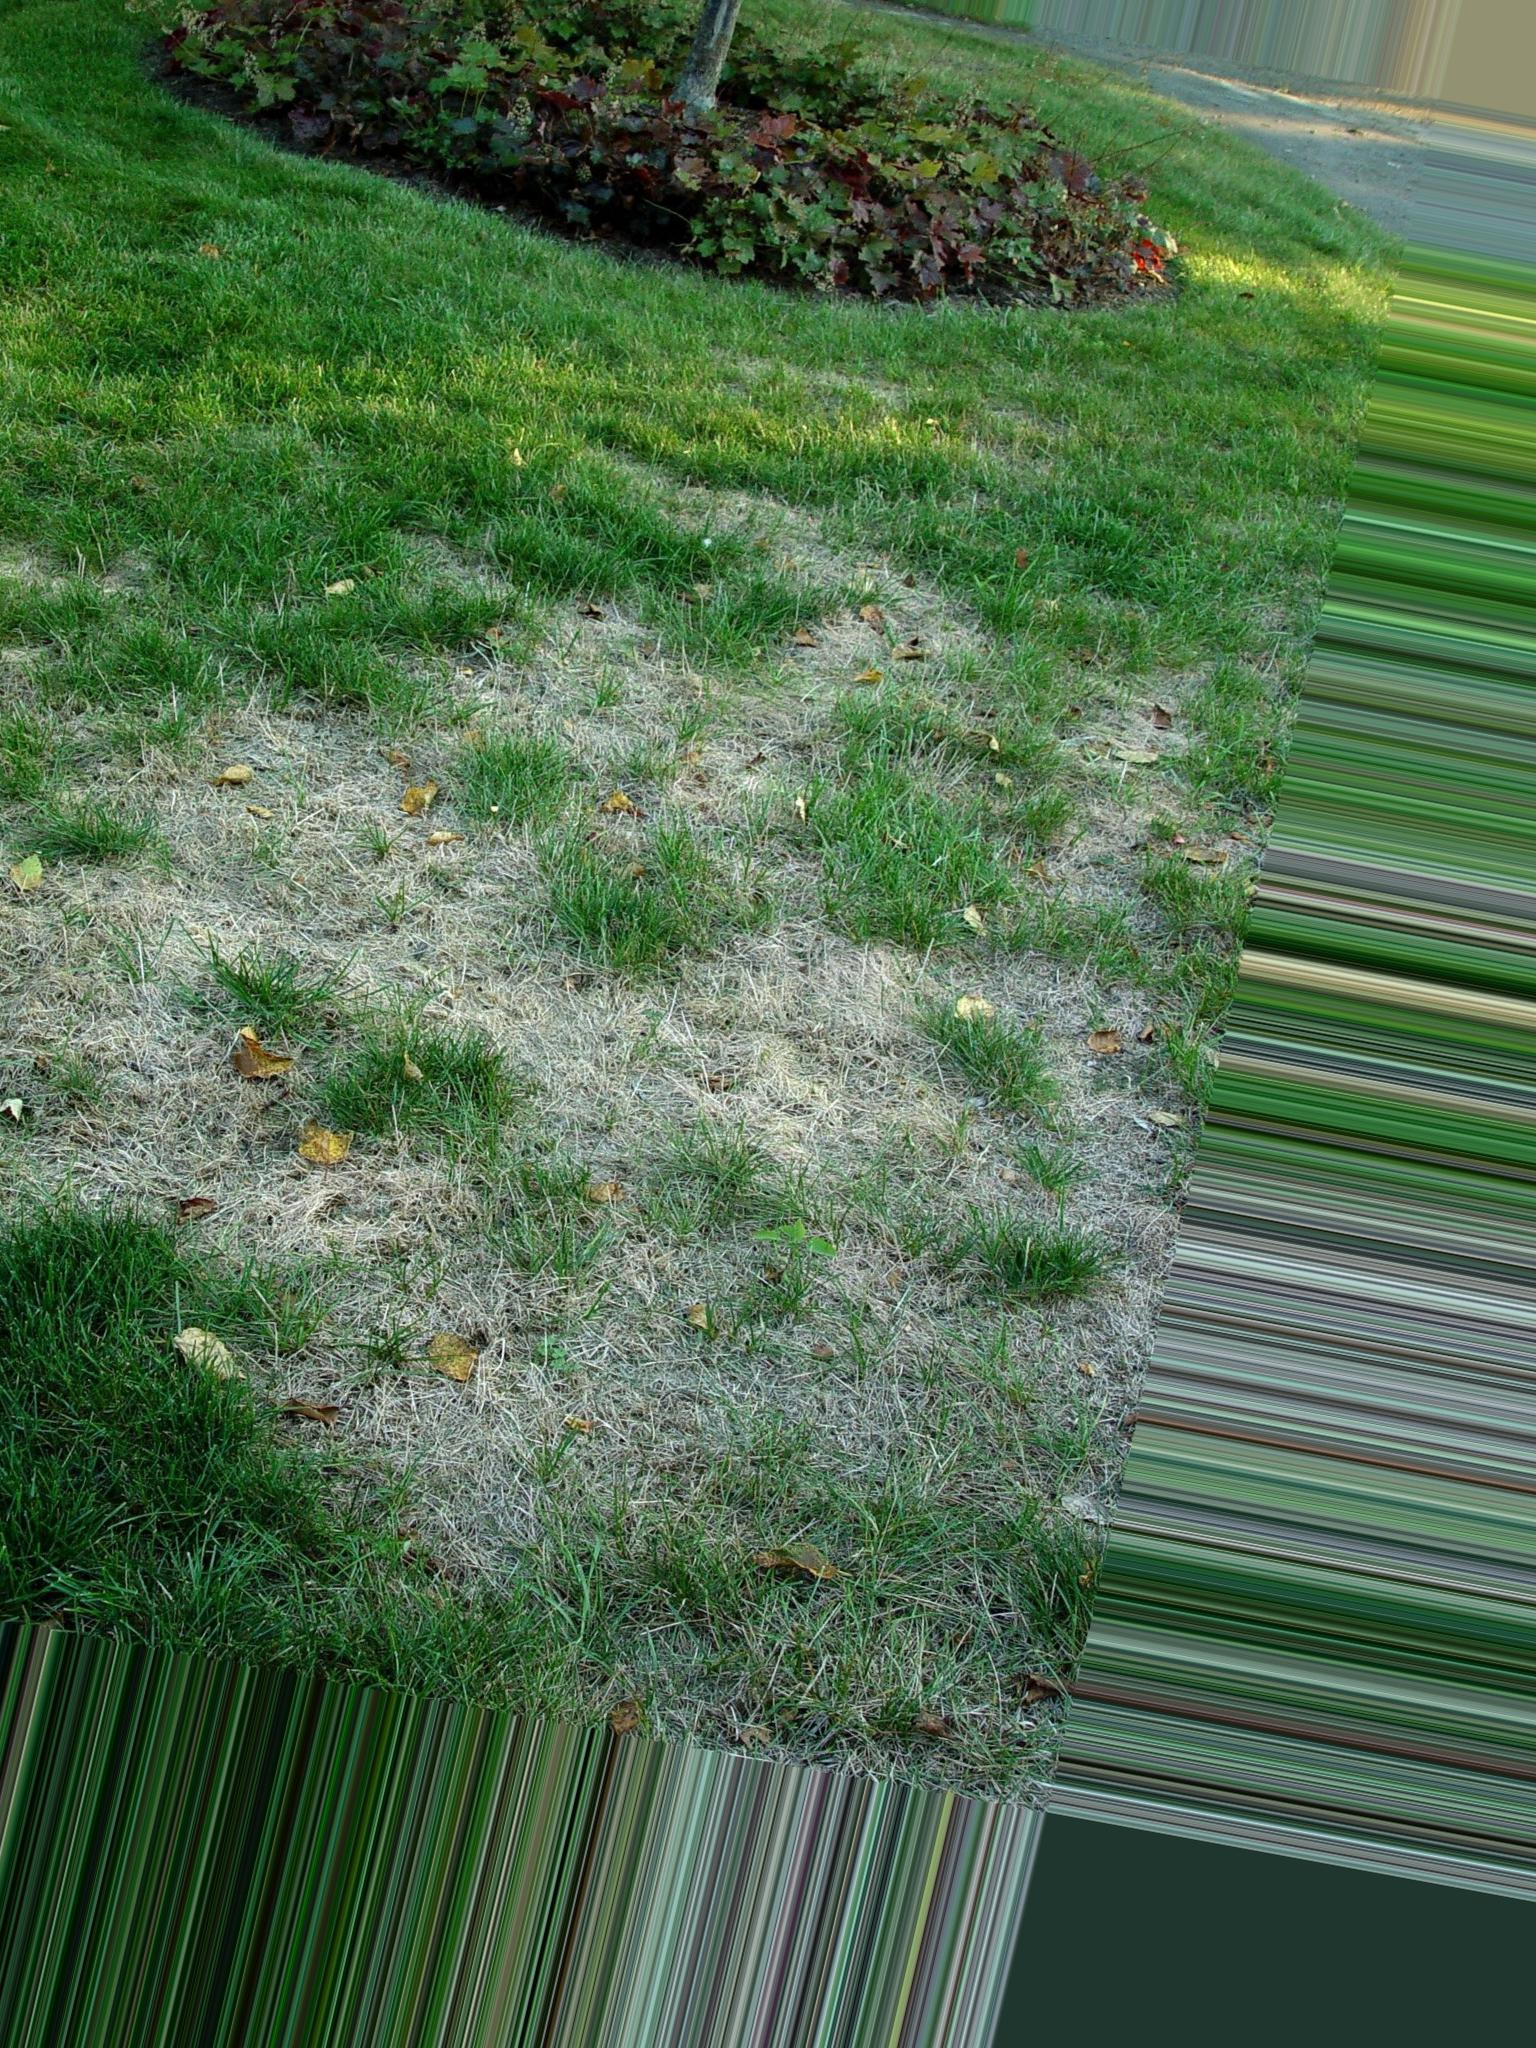patch: (173, 748, 440, 966), (366, 1330, 733, 1487), (589, 993, 899, 1150), (77, 992, 232, 1185), (516, 631, 692, 766)
